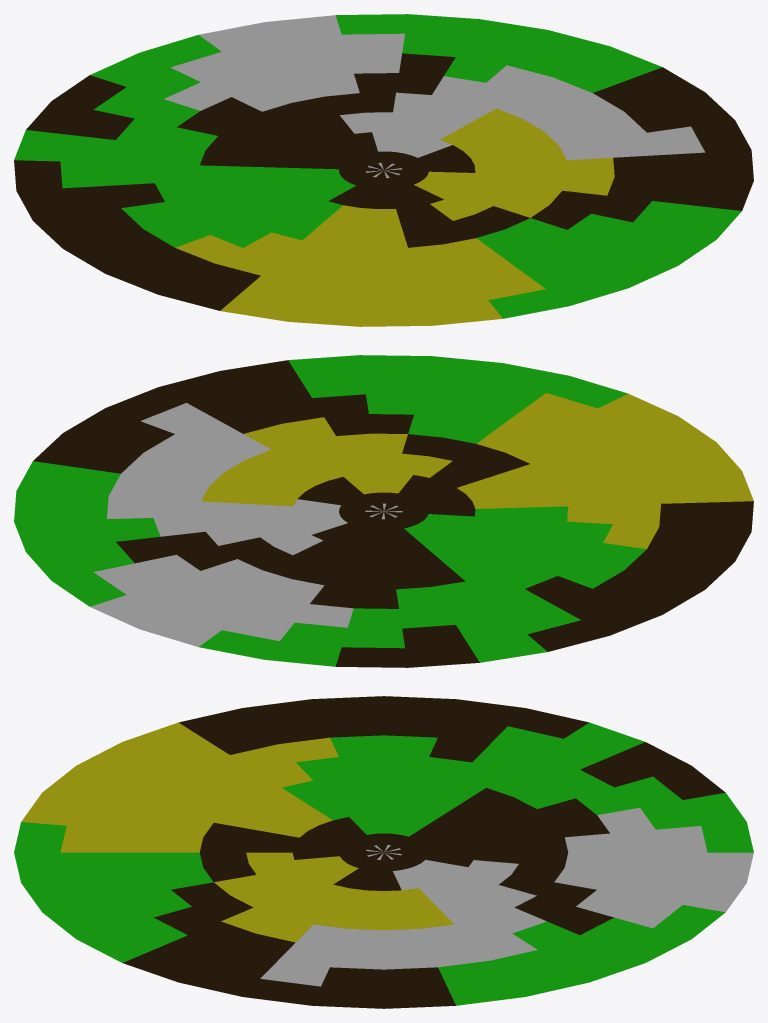
File: arena.obj
3 renders of one model, top to bottom at view 1: azimuth 30°, elevation 25°; view 2: azimuth 150°, elevation 25°; view 3: azimuth 270°, elevation 25°, orthographic.
Visible parts, largest first — view 1: Circle_Circle_Dirt, Circle_Circle_Grass, Circle_Circle_Sand, Circle_Circle_Snow; view 2: Circle_Circle_Dirt, Circle_Circle_Grass, Circle_Circle_Sand, Circle_Circle_Snow; view 3: Circle_Circle_Dirt, Circle_Circle_Grass, Circle_Circle_Sand, Circle_Circle_Snow.
Boxes of the visible parts, <box> form: Circle_Circle_Dirt: <box>14,53,753,310</box>; Circle_Circle_Grass: <box>14,14,741,318</box>; Circle_Circle_Sand: <box>175,108,614,326</box>; Circle_Circle_Snow: <box>164,15,705,178</box>; Circle_Circle_Dirt: <box>33,360,753,667</box>; Circle_Circle_Grass: <box>14,355,646,666</box>; Circle_Circle_Sand: <box>201,393,753,548</box>; Circle_Circle_Snow: <box>90,403,402,646</box>; Circle_Circle_Dirt: <box>123,696,725,1008</box>; Circle_Circle_Grass: <box>14,722,753,1005</box>; Circle_Circle_Sand: <box>21,722,453,942</box>; Circle_Circle_Snow: <box>260,807,753,986</box>.
Size of the model in its own units: 300 by 0 by 300.
